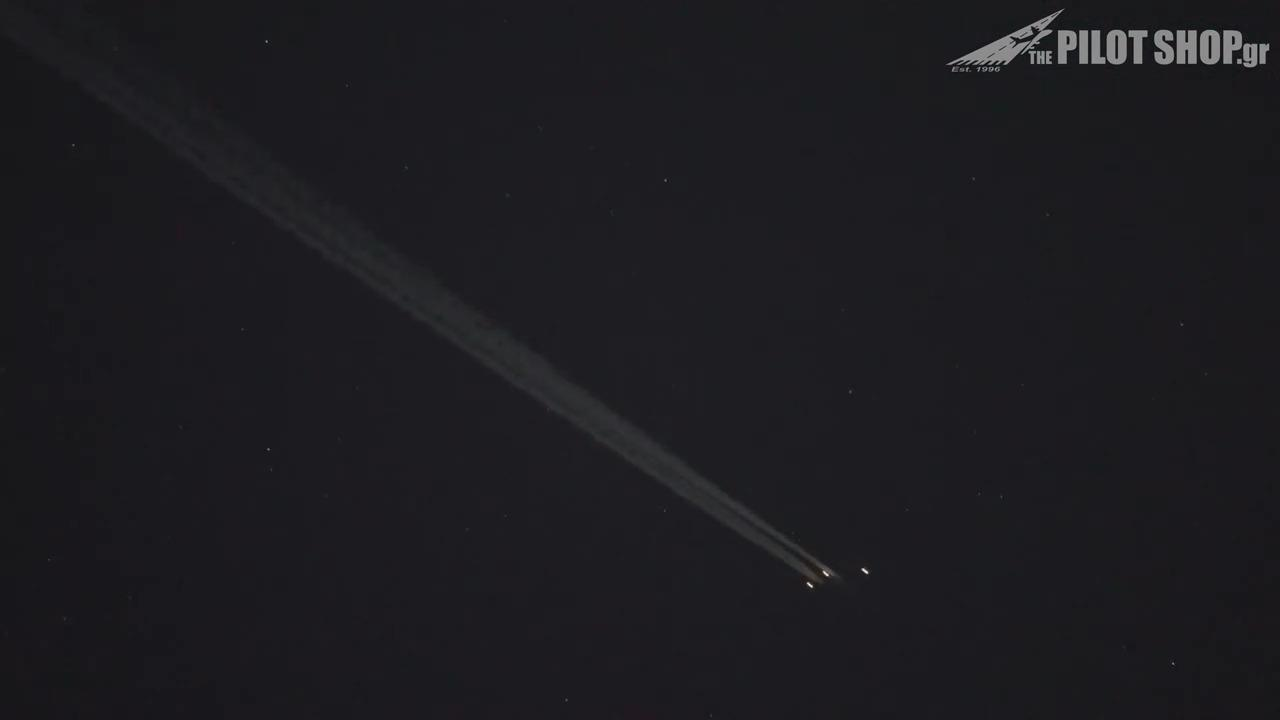Plane: (717, 500, 928, 631)
